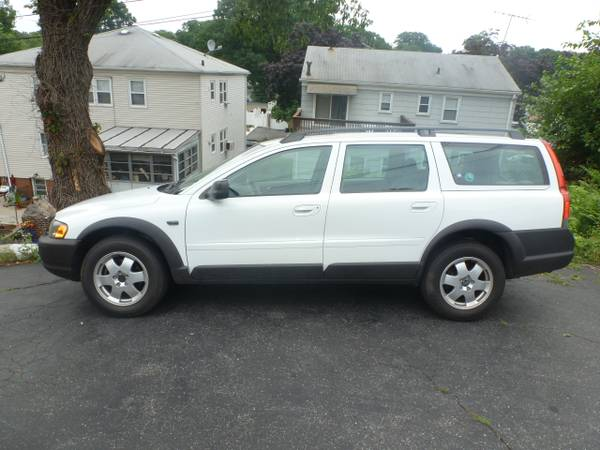volvo: (25, 129, 583, 324)
